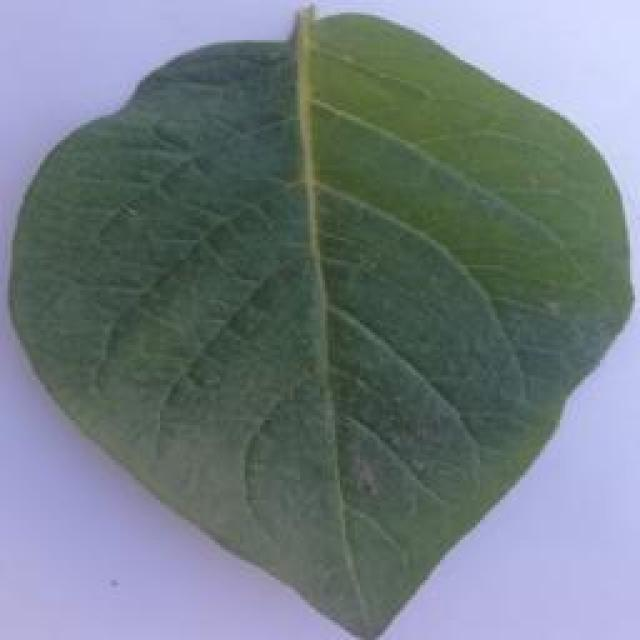Potato_Healthy: (8, 10, 622, 638)
